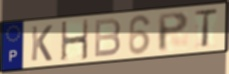6: (127, 13, 154, 56)
B: (93, 17, 123, 59)
H: (60, 18, 90, 63)
K: (30, 24, 54, 63)
P: (157, 10, 191, 53)
T: (192, 7, 220, 50)
